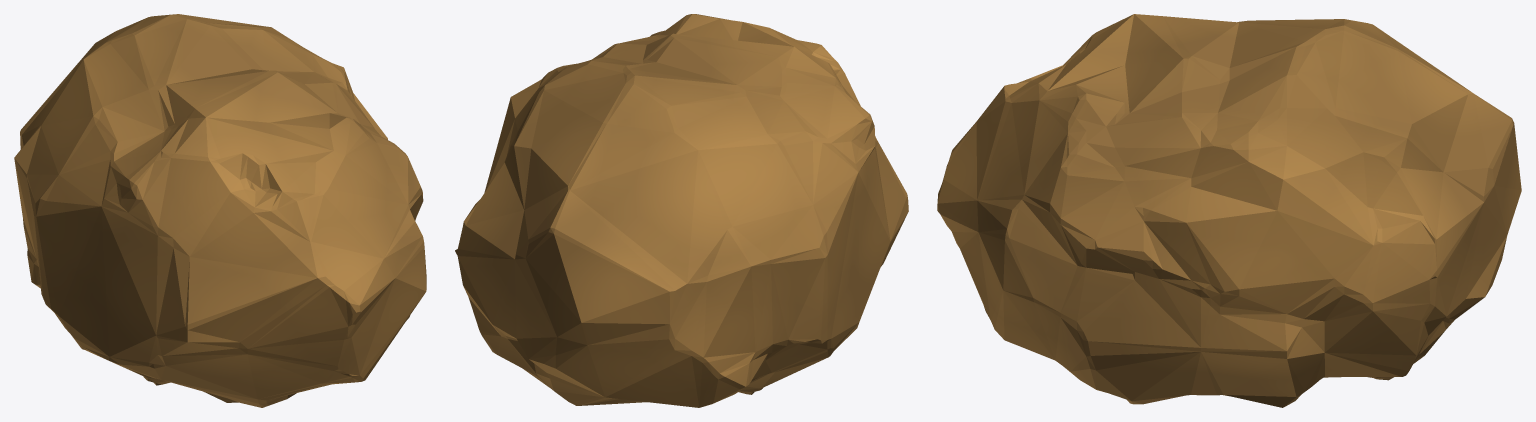
Rendered from Rock_04.fbx.
3 renders of one model, left to right at view 1: azimuth 30°, elevation 25°; view 2: azimuth 150°, elevation 25°; view 3: azimuth 270°, elevation 25°, orthographic. The views are drawn at different scales.
Parts seen in each view (by area): view 1: Rock_04; view 2: Rock_04; view 3: Rock_04.
Part boxes in pixels (x1,y1,x2,y2): Rock_04: (14, 14, 426, 407); Rock_04: (455, 14, 908, 407); Rock_04: (937, 14, 1521, 407).
Size of the model in its own units: 435 by 409 by 612.
Materials: 1 (1 with a texture image).
